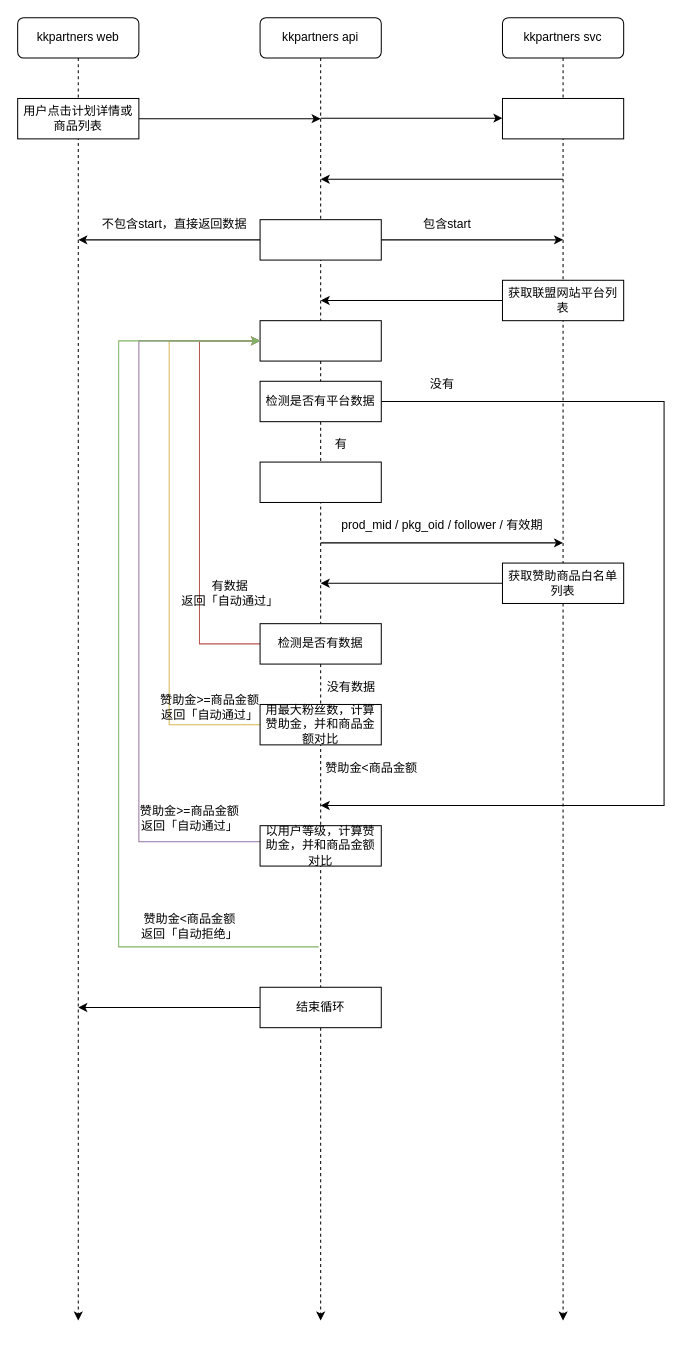
The diagram is 690 pixels wide and 1346 high, and some of its shapes have lost their labels. Here are the shapes that lost their labels. From the top down, the box of each, then its label:
(501, 97, 624, 139): 获取赞助计划详情
(259, 219, 381, 260): 验证赞助商品状态
(259, 320, 381, 361): 循环赞助商品
(259, 461, 381, 502): 计算最大粉丝数
